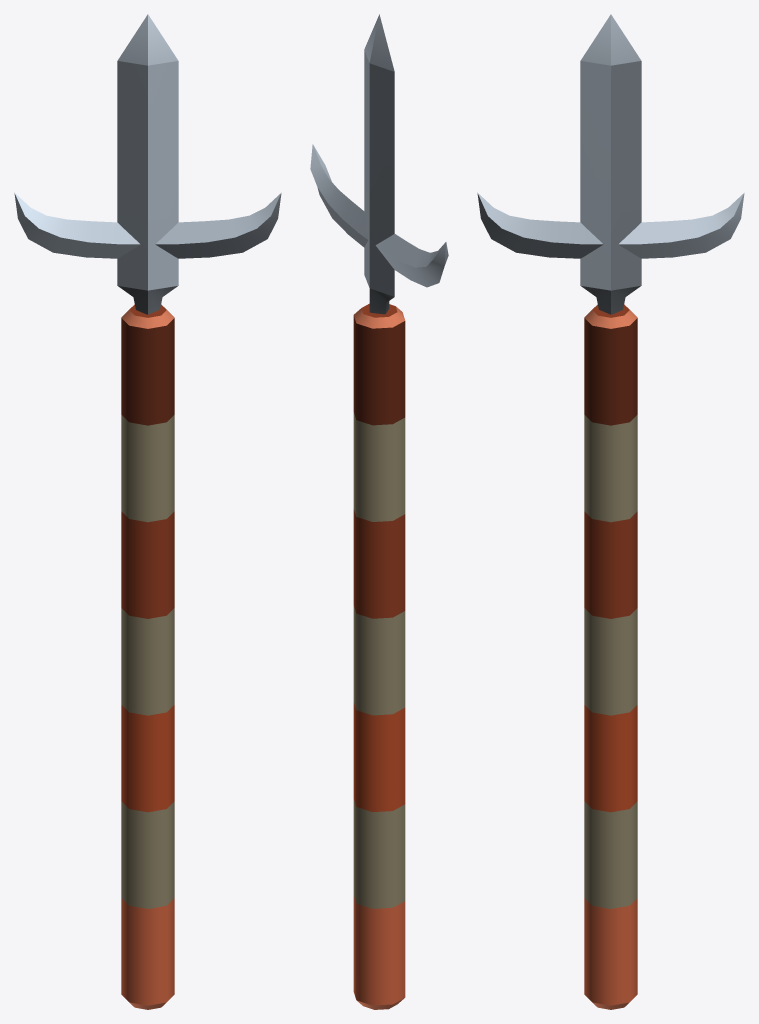
The model's file is Spear.fbx.
3 renders of one model, left to right at view 1: azimuth 90°, elevation 25°; view 2: azimuth 210°, elevation 25°; view 3: azimuth 270°, elevation 25°, orthographic.
Visible parts, largest first — view 1: Spear; view 2: Spear; view 3: Spear.
Boxes of the visible parts, x1=… form: Spear: x1=14, y1=14, x2=281, y2=1009; Spear: x1=310, y1=14, x2=448, y2=1009; Spear: x1=477, y1=14, x2=744, y2=1009.
Bounding box in the file's own units: 14 × 286 × 69.97.
